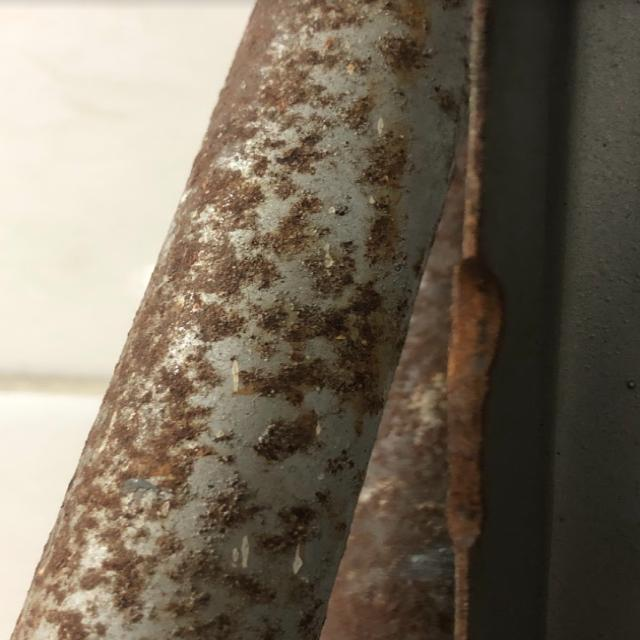corrosion: (5, 0, 519, 640)
